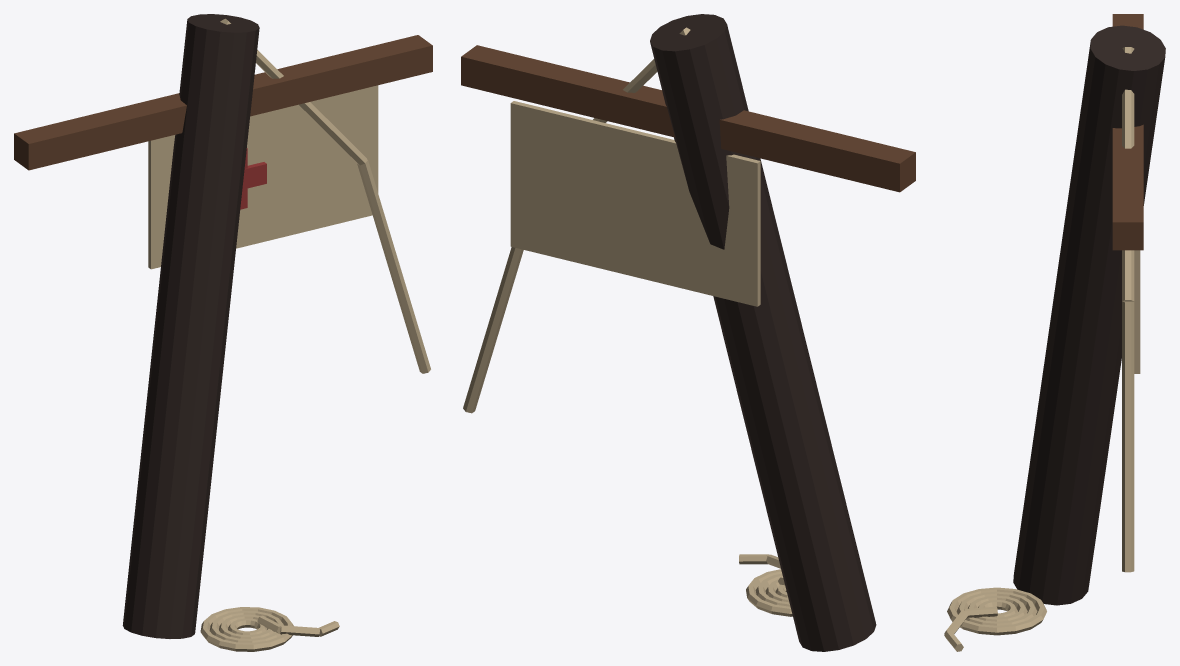
File: PirateCove_WreckMast_Showcase.glb
3 renders of one model, left to right at view 1: azimuth 30°, elevation 25°; view 2: azimuth 150°, elevation 25°; view 3: azimuth 270°, elevation 25°, orthographic. The views are drawn at different scales.
Visible parts, largest first — view 1: PirateCove_WreckMast_Showcase; view 2: PirateCove_WreckMast_Showcase; view 3: PirateCove_WreckMast_Showcase.
Boxes of the visible parts, x1=… form: PirateCove_WreckMast_Showcase: x1=14, y1=14, x2=432, y2=651; PirateCove_WreckMast_Showcase: x1=461, y1=14, x2=915, y2=651; PirateCove_WreckMast_Showcase: x1=944, y1=14, x2=1165, y2=651.
Bounding box in the file's own units: 3.23 × 4.31 × 1.44.
